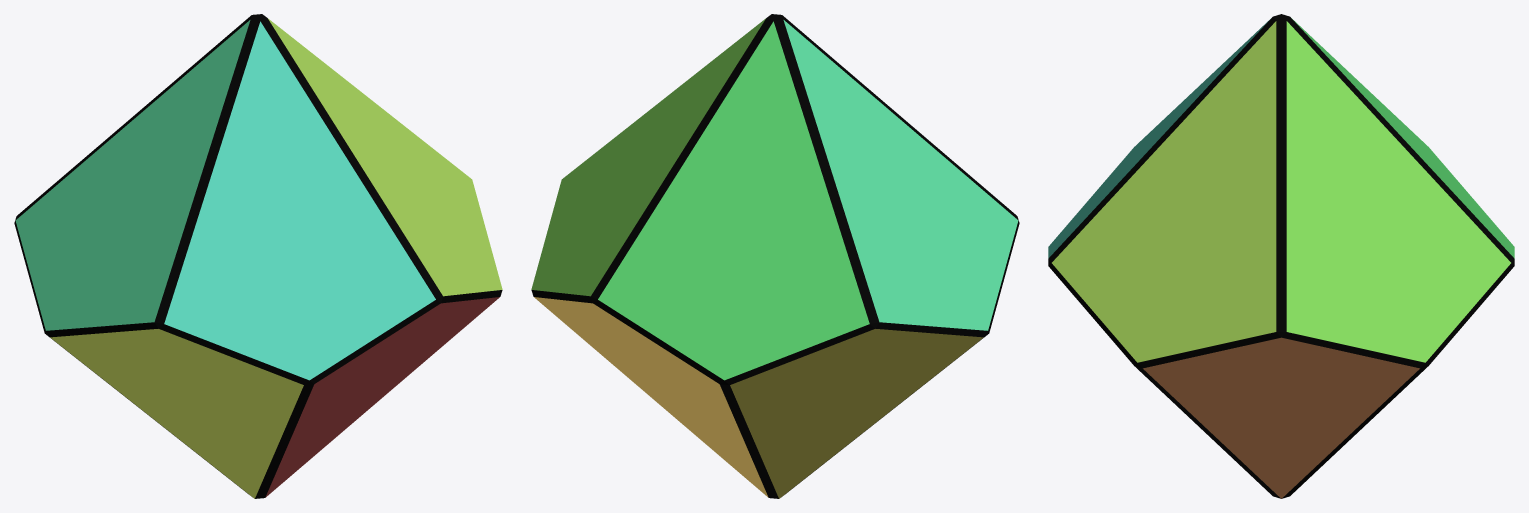
3 renders of one model, left to right at view 1: azimuth 30°, elevation 25°; view 2: azimuth 150°, elevation 25°; view 3: azimuth 270°, elevation 25°, orthographic.
Visible parts, largest first — view 1: D10; view 2: D10; view 3: D10.
Boxes of the visible parts, x1,y1,x2,y2 form: D10: (14, 14, 502, 498); D10: (531, 14, 1019, 498); D10: (1048, 14, 1514, 498).
Bounding box in the file's own units: 92.02 × 98.86 × 87.52.
